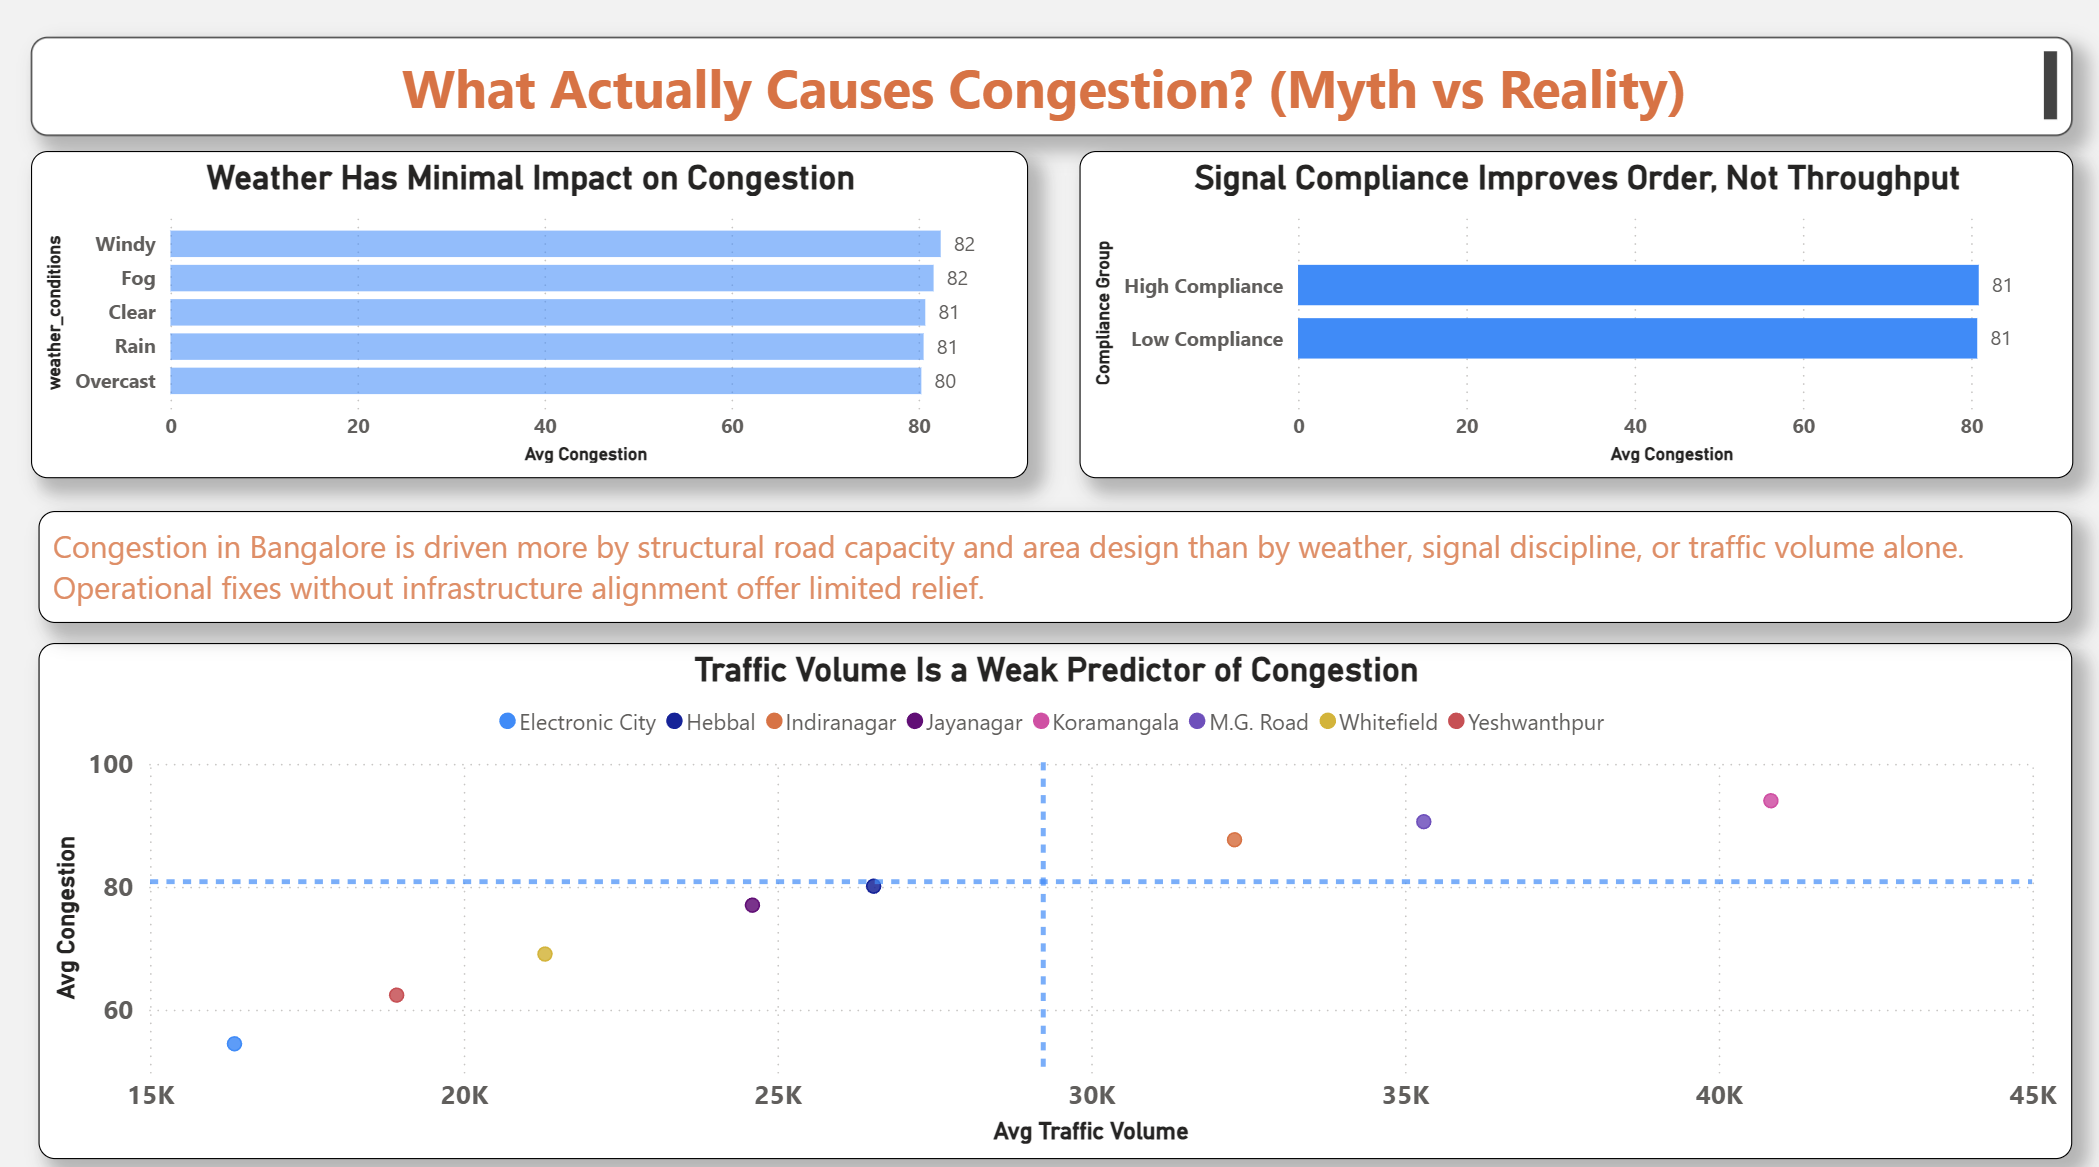

The dashboard page shown, as its layout file describes it:
{"tool":"powerbi","page":{"name":"Page 2","canvas":[1280,720],"ordinal":1},"visuals":[{"type":"clusteredBarChart","title":"Signal Compliance Improves Order, Not Throughput","fields":{"Y":["bangalore_traffic traffic_clean.Avg Congestion"],"Category":["bangalore_traffic traffic_clean.Compliance Group"]},"box":[656.5,96.6,603.3,198.8],"z":0,"group":"g1"},{"type":"scatterChart","title":"Traffic Volume Is a Weak Predictor of Congestion","fields":{"X":["bangalore_traffic traffic_clean.Avg Traffic Volume"],"Y":["bangalore_traffic traffic_clean.Avg Congestion"],"Series":["bangalore_traffic traffic_clean.area_name"]},"box":[24.6,395.2,1234.8,313.3],"z":0},{"type":"barChart","title":"Weather Has Minimal Impact on Congestion","fields":{"Y":["bangalore_traffic traffic_clean.Avg Congestion"],"Category":["bangalore_traffic traffic_clean.weather_conditions"]},"box":[20.3,96.6,605.5,198.8],"z":1000,"group":"g1"},{"type":"textbox","box":[20.4,27.3,1239.5,60.2],"z":1000},{"type":"textbox","box":[25,314.7,1234.9,68.2],"z":2000},{"type":"group","id":"g1","title":"Group 1","box":[20.3,96.6,1239.5,198.8],"z":3000}]}

Visuals, with their boxes in screenshot pixels (x1, y1, x2, y2), scaled from the page's 1280x720 canvas onto the 2099x1167 screenshot:
"Signal Compliance Improves Order, Not Throughput" clusteredBarChart: box(1077, 157, 2066, 479)
"Traffic Volume Is a Weak Predictor of Congestion" scatterChart: box(40, 641, 2065, 1148)
"Weather Has Minimal Impact on Congestion" barChart: box(33, 157, 1026, 479)
textbox: box(33, 44, 2066, 142)
textbox: box(41, 510, 2066, 621)
"Group 1" group: box(33, 157, 2066, 479)
